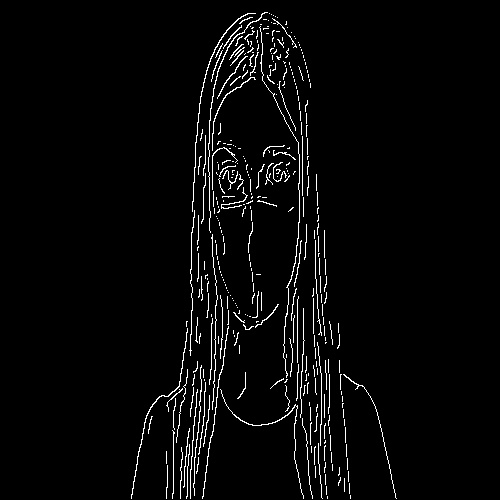mask: (206, 203, 311, 330)
